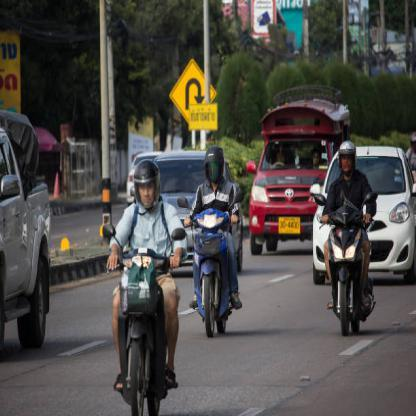Motorcycle: (101, 237, 171, 415), (183, 189, 237, 335), (318, 190, 369, 342)
